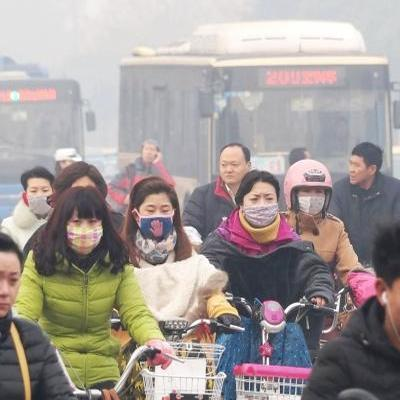Face_Mask_Found: (63, 223, 108, 261), (134, 212, 177, 239), (241, 201, 281, 229), (295, 192, 329, 215), (27, 194, 57, 217)
Face_Mask_Not_Found: (1, 281, 17, 320), (218, 163, 246, 184), (348, 164, 371, 186)
